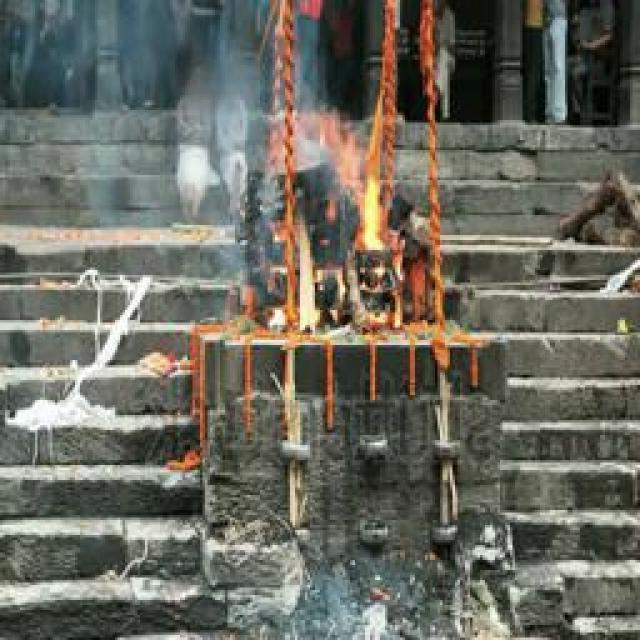Fire: (326, 109, 394, 257), (273, 217, 326, 336)
